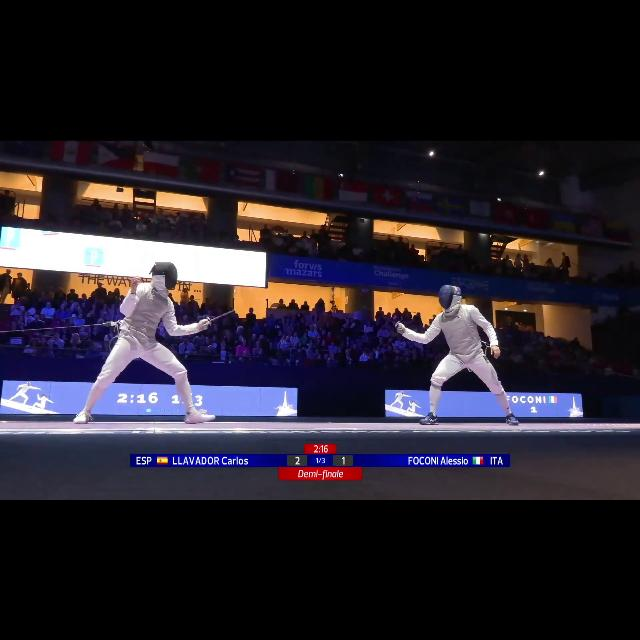blade: (202, 302, 250, 326)
